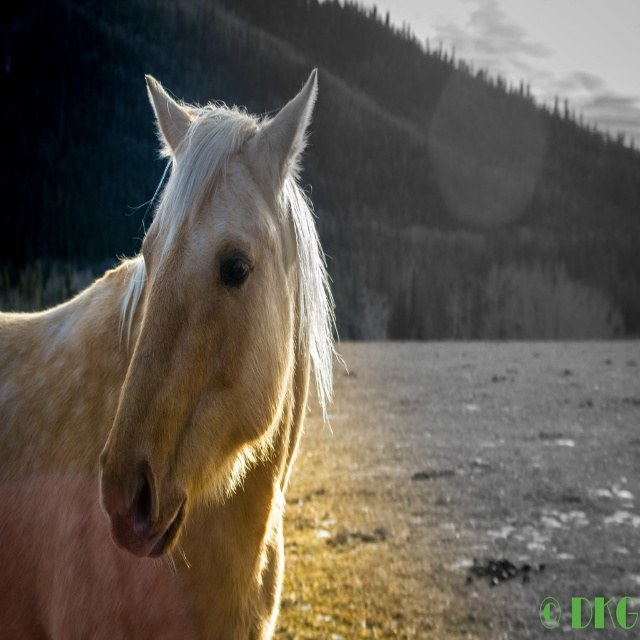Horse: (1, 66, 348, 639)
